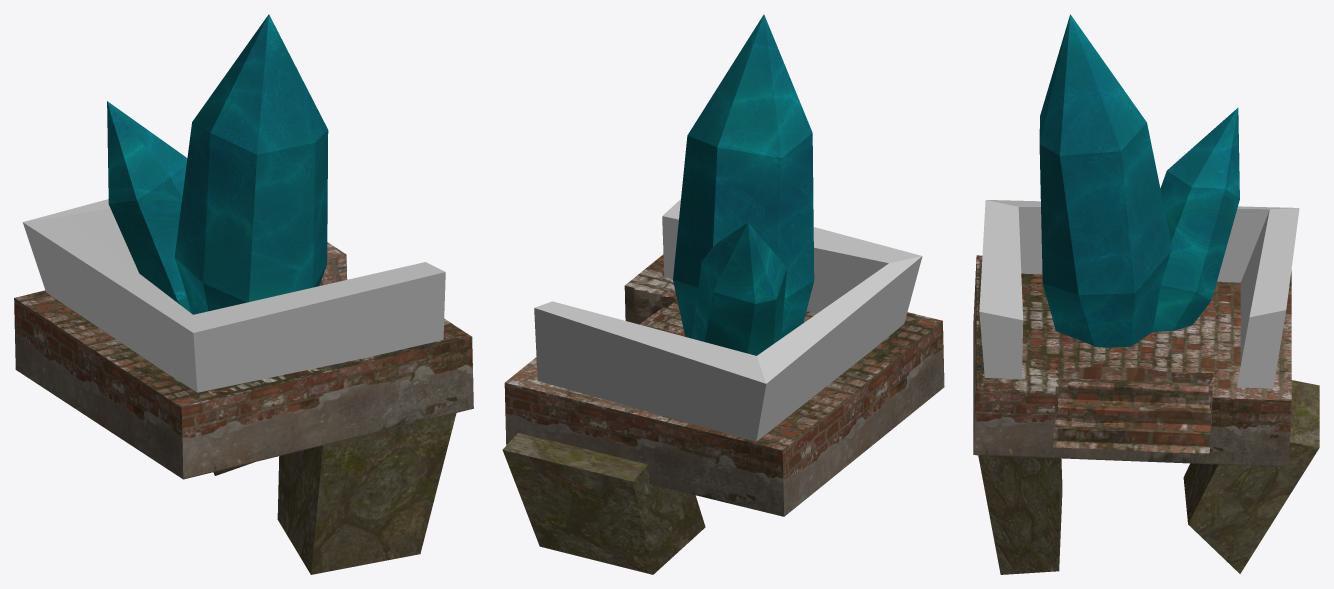
Rendered from crystal_Waypoint1_GEO.fbx.
3 renders of one model, left to right at view 1: azimuth 30°, elevation 25°; view 2: azimuth 150°, elevation 25°; view 3: azimuth 270°, elevation 25°, orthographic. The views are drawn at different scales.
Parts seen in each view (by area): view 1: crystal_Waypoint1_GEO; view 2: crystal_Waypoint1_GEO; view 3: crystal_Waypoint1_GEO.
Boxes of the visible parts, box(x1,y1,x2,y2) form: crystal_Waypoint1_GEO: box(14, 14, 473, 574); crystal_Waypoint1_GEO: box(502, 14, 944, 574); crystal_Waypoint1_GEO: box(973, 14, 1319, 574).
Bounding box in the file's own units: 4.27 × 7.58 × 4.68.
